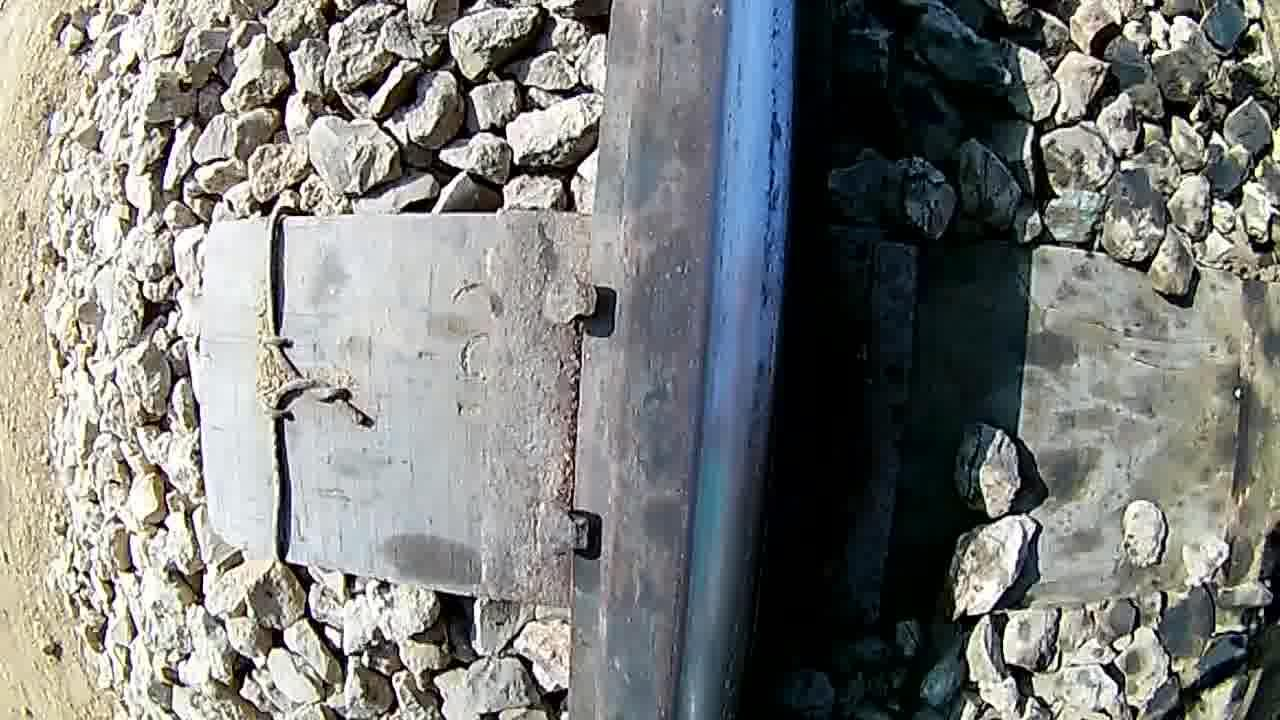crack: (614, 1, 797, 720)
